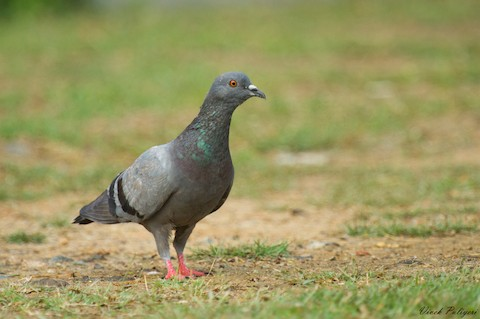pigeon: (68, 67, 267, 282)
